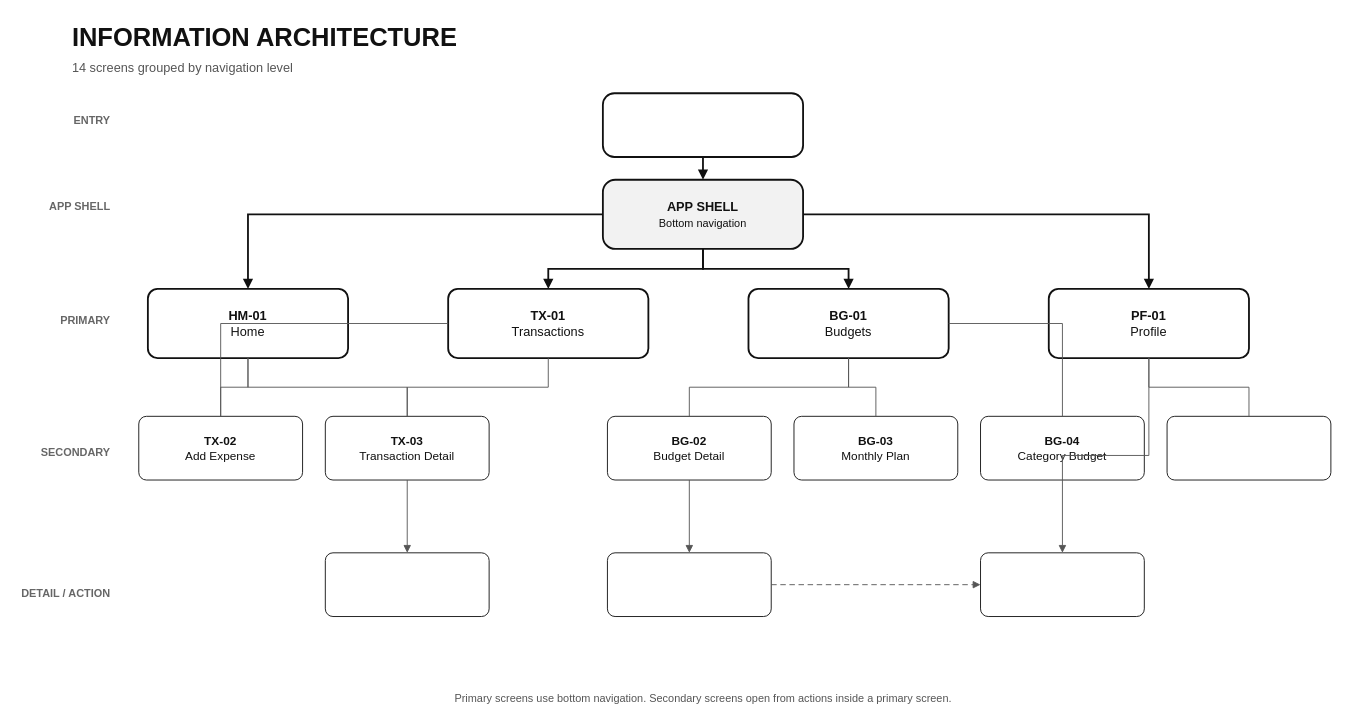
Some shapes in this 1347 by 727 pixel diagram are drawn without their labels. The shapes that lost their labels are listed below. From the top down, each one's centre as x and y in pixels, then its label:
At point 703,124: "AU-01 Login".
At point 1248,447: "NT-01 Notifications".
At point 406,584: "TX-04 Edit Expense".
At point 689,584: "IN-01 Insights".
At point 1062,584: "EX-01 Export Report".
